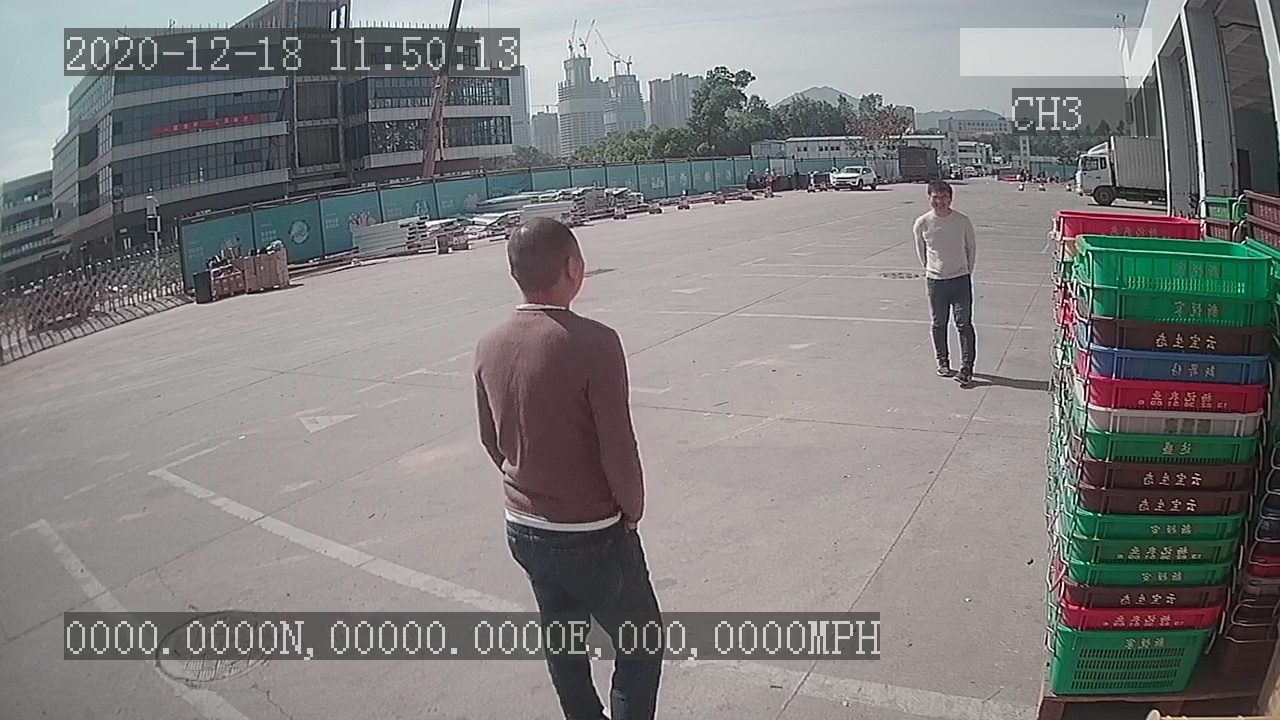person: (906, 172, 986, 394)
